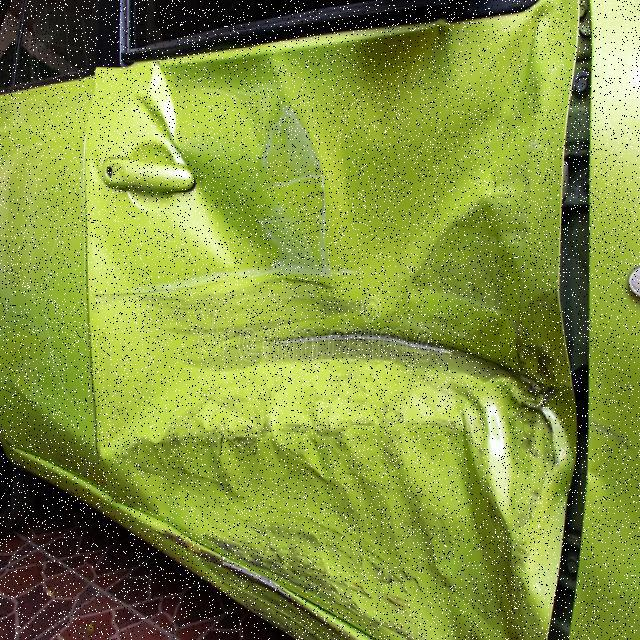doorouter-dent: (92, 21, 601, 631)
